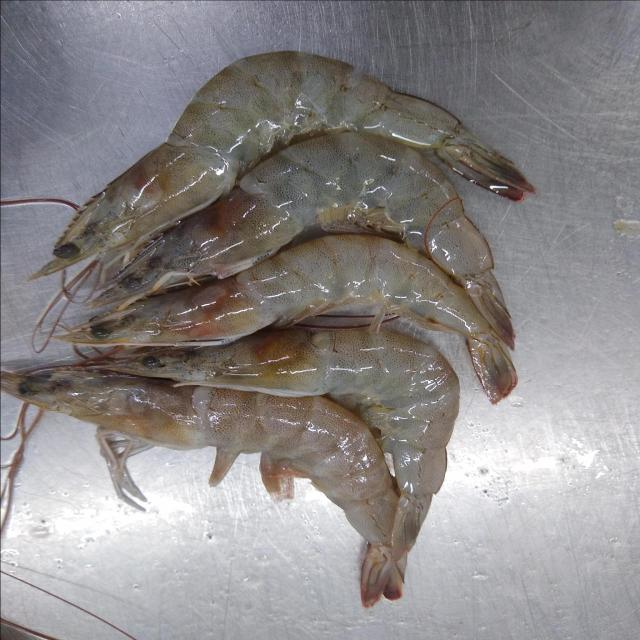shrimp: (32, 51, 465, 279), (0, 368, 403, 606), (98, 329, 458, 558), (58, 234, 515, 402), (93, 131, 500, 311)
